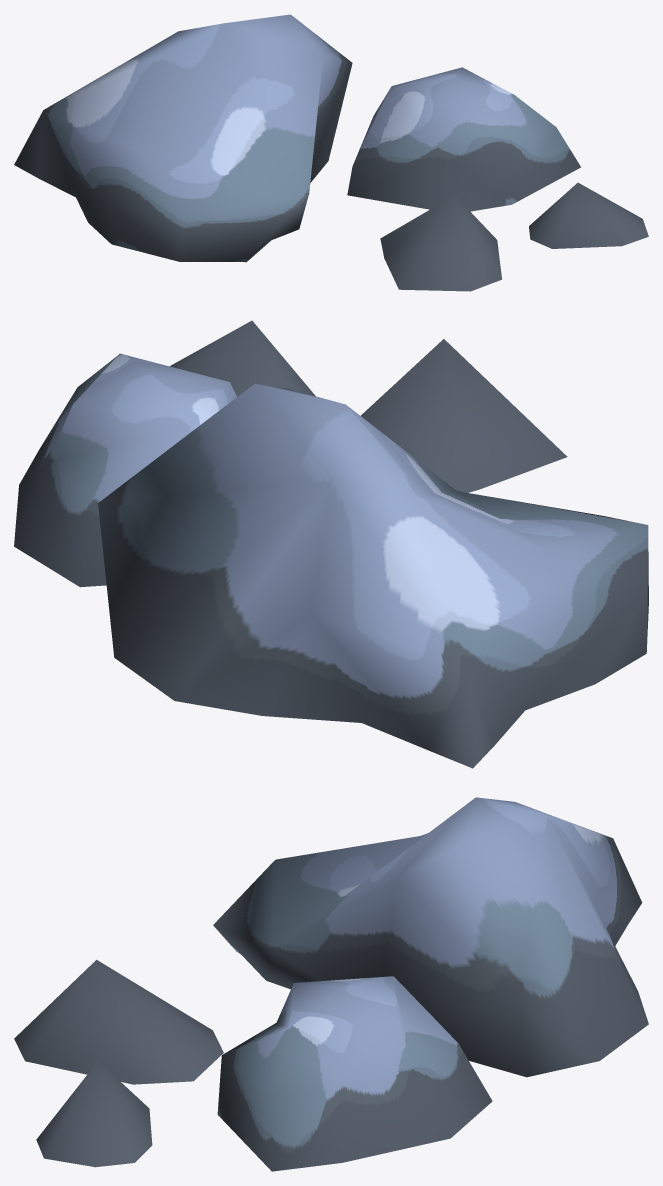
File: Rock 6x 6 3_preview_3DS_simplified.glb
3 renders of one model, top to bottom at view 1: azimuth 30°, elevation 25°; view 2: azimuth 150°, elevation 25°; view 3: azimuth 270°, elevation 25°, orthographic. The views are drawn at different scales.
Parts seen in each view (by area): view 1: Marine Park Empire model; view 2: Marine Park Empire model; view 3: Marine Park Empire model.
Boxes of the visible parts, bbox=[...] form: Marine Park Empire model: bbox=[14, 14, 648, 291]; Marine Park Empire model: bbox=[14, 320, 648, 768]; Marine Park Empire model: bbox=[14, 797, 648, 1171].
Bounding box in the file's own units: 197 × 67.14 × 194.
Materials: 1 (1 with a texture image).
